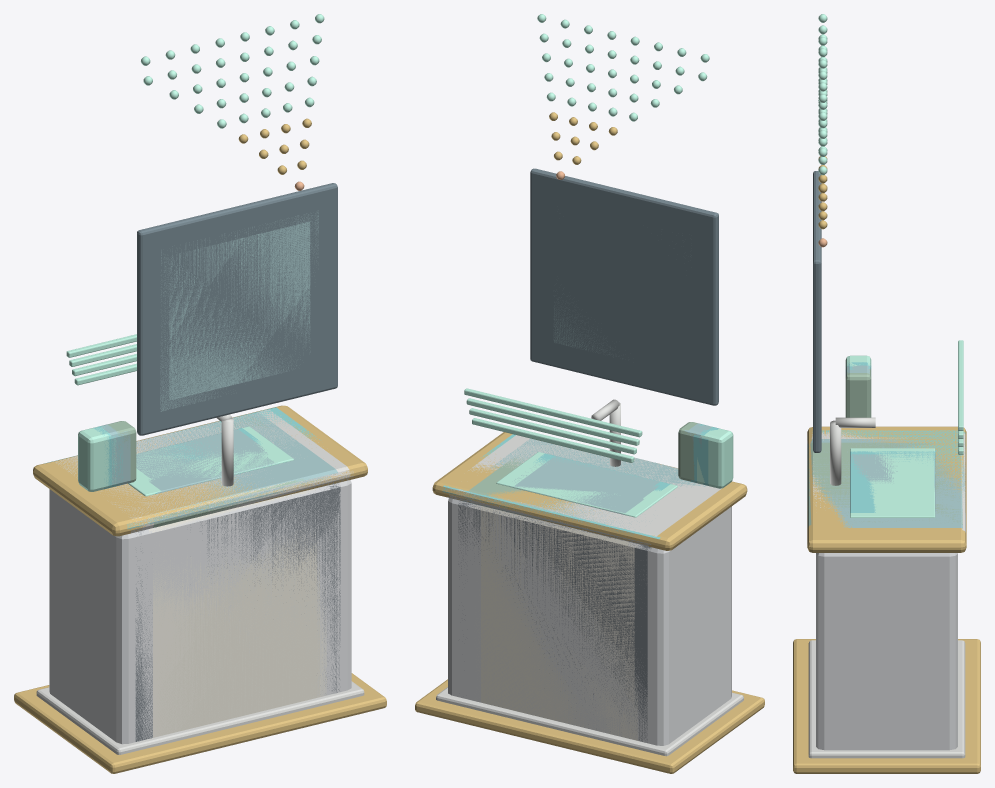
The model's file is Gear08.fbx.
3 views of the same model, side by side, from view 1: azimuth 30°, elevation 25°; view 2: azimuth 150°, elevation 25°; view 3: azimuth 270°, elevation 25° (orthographic). The views are drawn at different scales.
Visible parts, largest first — view 1: Gear08_V10_Platinum, Gear08_V10_Glass, Gear08_V1_Ivory, Gear08_V1_Blue, Gear08_V3_Linen, Gear08_V9_Gold, Gear08_V10_Gold, Gear08_V5_Platinum, Gear08_V2_Ivory, Gear08_V3_Blue, Gear08_V7_Graphite, Gear08_V5_Glass (+24 smaller); view 2: Gear08_V10_Platinum, Gear08_V10_Glass, Gear08_V9_Glass, Gear08_V10_Gold, Gear08_V1_Ivory, Gear08_V7_Graphite, Gear08_V3_Linen, Gear08_V7_Chrome, Gear08_V10_Glow, Gear08_V2_Blue, Gear08_V8_Glass, Gear08_V5_Platinum (+18 smaller); view 3: Gear08_V10_Platinum, Gear08_V10_Gold, Gear08_V10_Glow, Gear08_V9_Gold, Gear08_V3_Blue, Gear08_V1_Sage, Gear08_V10_Chrome, Gear08_V10_Glass, Gear08_V9_Glow, Gear08_V8_Aqua, Gear08_V7_Aqua, Gear08_V3_Sage (+8 smaller).
Boxes of the visible parts, x1=… form: Gear08_V10_Platinum: x1=49, y1=480, x2=351, y2=744; Gear08_V10_Glass: x1=137, y1=183, x2=337, y2=435; Gear08_V1_Ivory: x1=159, y1=488, x2=316, y2=735; Gear08_V1_Blue: x1=136, y1=221, x2=310, y2=490; Gear08_V3_Linen: x1=152, y1=514, x2=323, y2=737; Gear08_V9_Gold: x1=21, y1=406, x2=381, y2=772; Gear08_V10_Gold: x1=14, y1=405, x2=386, y2=773; Gear08_V5_Platinum: x1=145, y1=485, x2=330, y2=737; Gear08_V2_Ivory: x1=156, y1=527, x2=319, y2=735; Gear08_V3_Blue: x1=136, y1=227, x2=337, y2=523; Gear08_V7_Graphite: x1=138, y1=484, x2=337, y2=692; Gear08_V5_Glass: x1=157, y1=207, x2=321, y2=415; Gear08_V10_Platinum: x1=448, y1=498, x2=731, y2=745; Gear08_V10_Glass: x1=530, y1=168, x2=718, y2=405; Gear08_V9_Glass: x1=534, y1=180, x2=710, y2=400; Gear08_V10_Gold: x1=415, y1=432, x2=764, y2=773; Gear08_V1_Ivory: x1=481, y1=506, x2=628, y2=731; Gear08_V7_Graphite: x1=461, y1=501, x2=648, y2=742; Gear08_V3_Linen: x1=474, y1=505, x2=634, y2=739; Gear08_V7_Chrome: x1=447, y1=435, x2=721, y2=701; Gear08_V10_Glow: x1=464, y1=14, x2=733, y2=517; Gear08_V2_Blue: x1=464, y1=235, x2=691, y2=539; Gear08_V8_Glass: x1=537, y1=228, x2=614, y2=372; Gear08_V5_Platinum: x1=468, y1=503, x2=641, y2=718; Gear08_V10_Platinum: x1=816, y1=553, x2=957, y2=750; Gear08_V10_Gold: x1=793, y1=426, x2=980, y2=773; Gear08_V10_Glow: x1=818, y1=14, x2=963, y2=517; Gear08_V9_Gold: x1=793, y1=428, x2=980, y2=764; Gear08_V3_Blue: x1=807, y1=439, x2=962, y2=528; Gear08_V1_Sage: x1=807, y1=442, x2=966, y2=527; Gear08_V10_Chrome: x1=808, y1=640, x2=965, y2=758; Gear08_V10_Glass: x1=813, y1=171, x2=821, y2=452; Gear08_V9_Glow: x1=818, y1=34, x2=963, y2=487; Gear08_V8_Aqua: x1=807, y1=430, x2=965, y2=480; Gear08_V7_Aqua: x1=846, y1=362, x2=935, y2=512; Gear08_V3_Sage: x1=845, y1=369, x2=871, y2=417.
Size of the model in its own units: 106 by 255 by 66.
